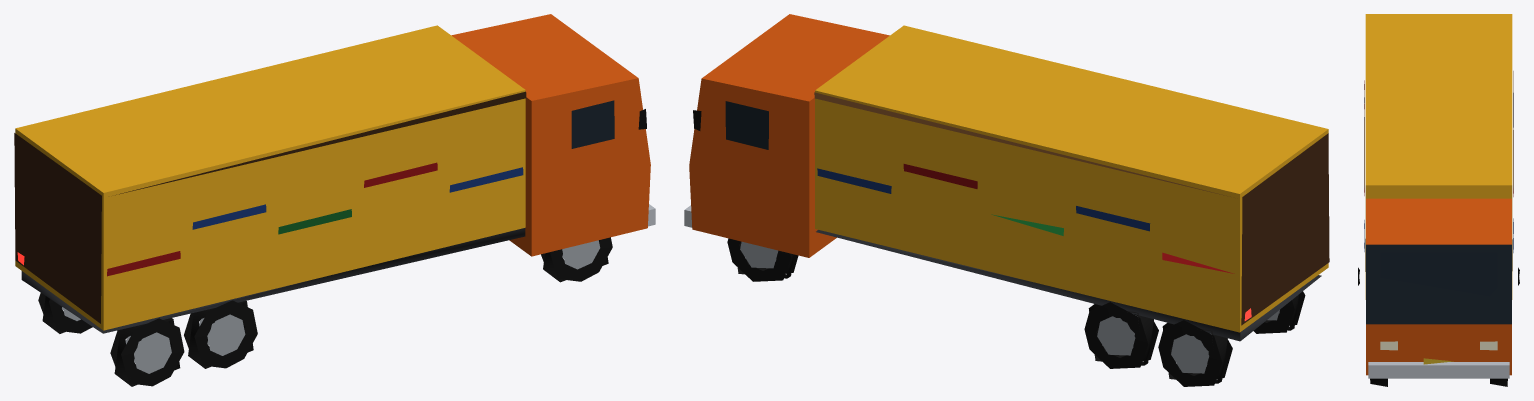
Rendered from truck_lod1.glb.
The picture shows the model from 3 angles, left to right: view 1: azimuth 30°, elevation 25°; view 2: azimuth 150°, elevation 25°; view 3: azimuth 270°, elevation 25°; orthographic projection. The views are drawn at different scales.
Parts seen in each view (by area): view 1: truck_body, wheel_2r, wheel_1r.002, wheel_0r.002, wheel_2l; view 2: truck_body, wheel_1l.002, wheel_2l, wheel_0l.002, wheel_2r; view 3: truck_body.
Part boxes in pixels (box(x1,y1,x2,y2)): truck_body: box(14, 14, 655, 333); wheel_2r: box(110, 318, 184, 386); wheel_1r.002: box(184, 300, 257, 368); wheel_0r.002: box(541, 237, 612, 282); wheel_2l: box(38, 293, 92, 333); truck_body: box(684, 14, 1329, 341); wheel_1l.002: box(1084, 302, 1158, 368); wheel_2l: box(1158, 320, 1232, 386); wheel_0l.002: box(727, 238, 798, 281); wheel_2r: box(1254, 291, 1305, 333); truck_body: box(1358, 14, 1519, 378).
Bounding box in the file's own units: 9.08 × 3.25 × 2.75.
2 materials, 1 textured.
